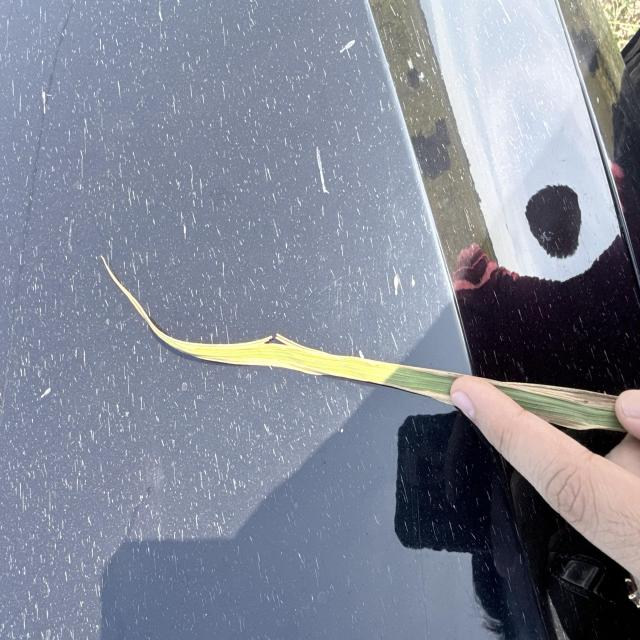Chay bia la: (100, 253, 618, 410), (176, 349, 456, 406)
